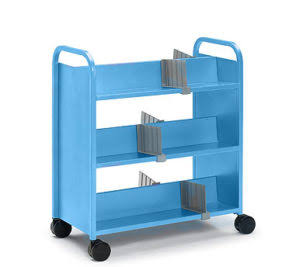Carts: (50, 36, 256, 261)
